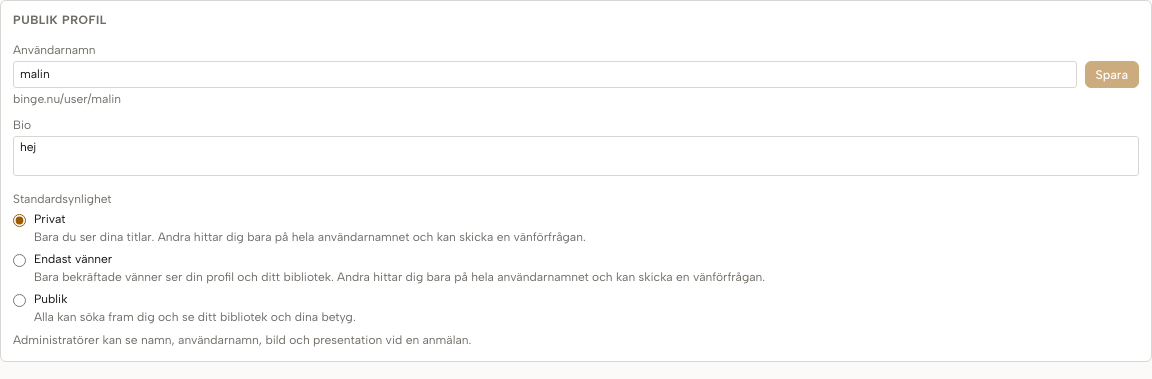
Test: UsernameSection — bion visar det som sparades (BIN-1253) › textfaltet tar det varde updateBio resolvar med
The image size is (1152, 379).
Replace the text in the text box labelled "Bio" with "kapad text" at (576, 156), box [13,136,1139,176]
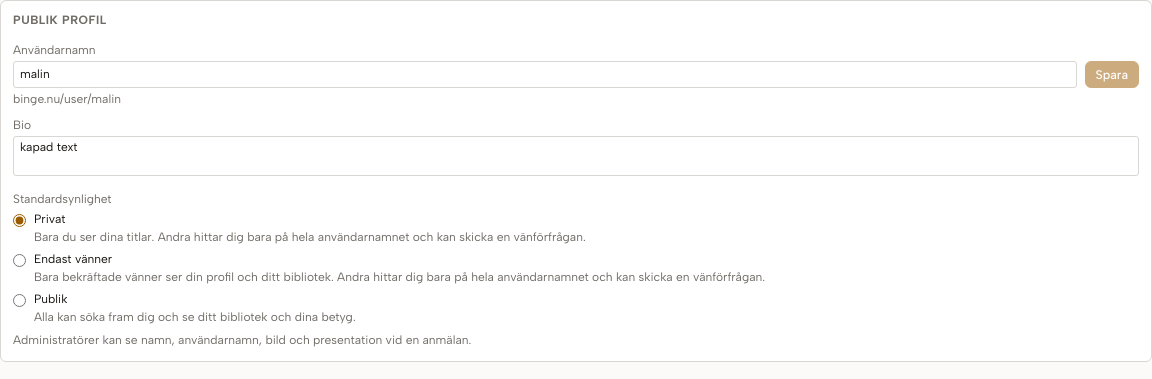
Leave the text box labelled "Bio", box [13,136,1139,176]
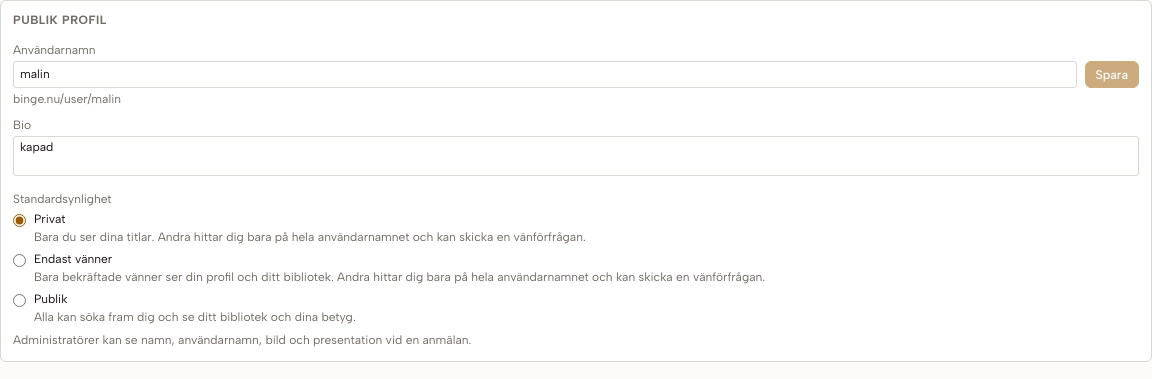
Expected: the text box labelled "Bio" holds "kapad", [13,136,1139,176]
